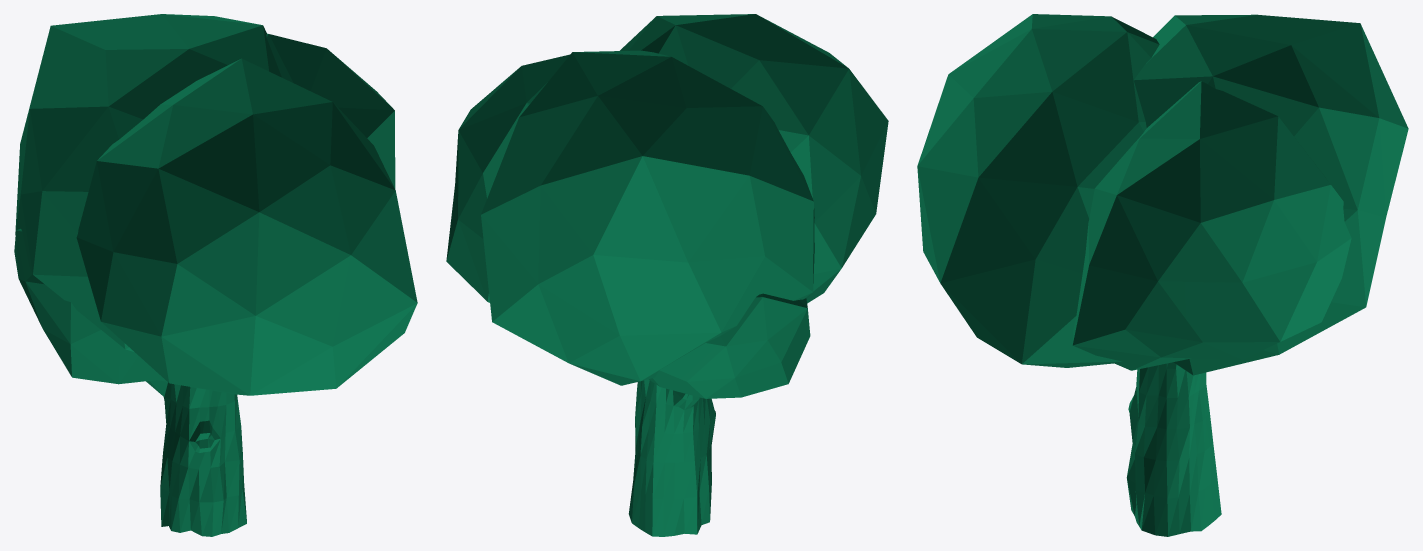
Rendered from tree.obj.
The picture shows the model from 3 angles, left to right: view 1: azimuth 30°, elevation 25°; view 2: azimuth 150°, elevation 25°; view 3: azimuth 270°, elevation 25°; orthographic projection. The views are drawn at different scales.
Parts seen in each view (by area): view 1: obj2, obj1; view 2: obj2, obj1; view 3: obj2, obj1.
Part boxes in pixels (x1,y1,x2,y2): obj2: [14, 14, 417, 395]; obj1: [146, 379, 246, 536]; obj2: [446, 14, 888, 398]; obj1: [628, 379, 715, 536]; obj2: [917, 14, 1408, 375]; obj1: [1126, 362, 1221, 536].
Bounding box in the file's own units: 1650 × 2182 × 1957.
